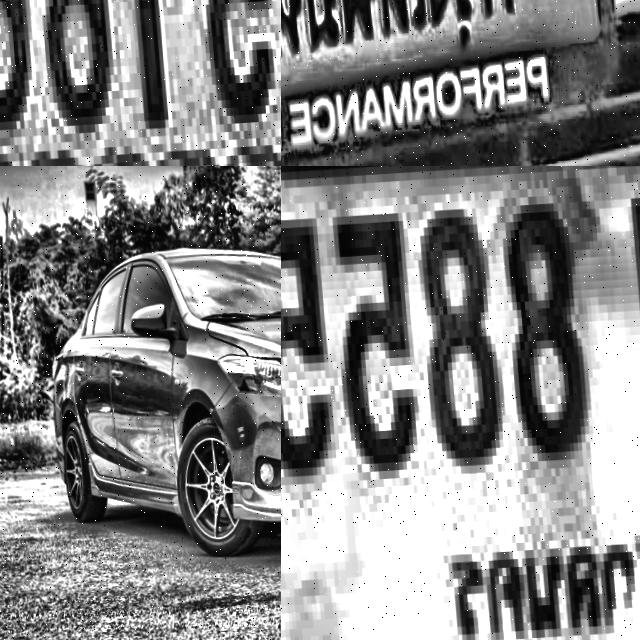license-plate: (281, 166, 640, 640), (281, 0, 640, 166), (0, 0, 281, 166)
